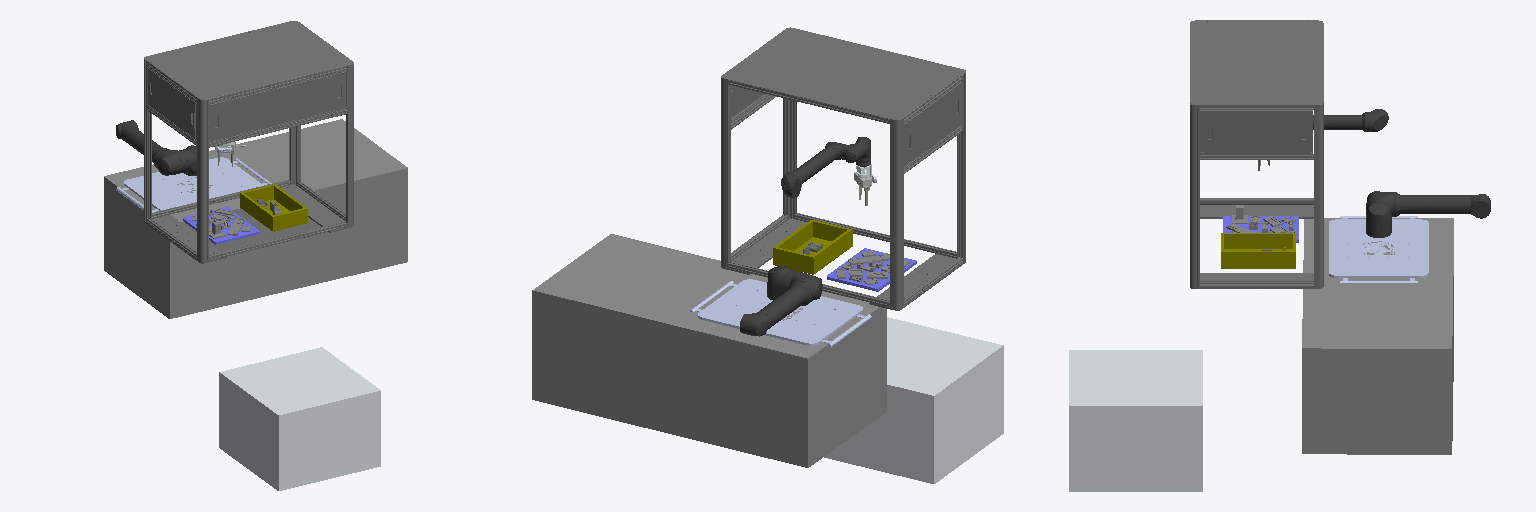
--- Render facts (derived) ---
Views: 3 orthographic renders of the robot side by side, from view 1: azimuth 30°, elevation 25°; view 2: azimuth 150°, elevation 25°; view 3: azimuth 270°, elevation 25°.
Robot: keti_robot_description — 22 links, 21 joints (6 revolute, 2 prismatic, 13 fixed); root link world; default pose: all joints at 0.
Links seen in each view (by area): view 1: base_link, cage, table, base, sample_box, link2, guide, guide_plate; view 2: base_link, cage, table, base, sample_box, link2, link3, guide, guide_plate, link1; view 3: base_link, cage, table, base, sample_box, link2, link3, guide, link1.
Link boxes in pixels (x1=…): base_link: x1=104, y1=119, x2=407, y2=318; cage: x1=144, y1=21, x2=353, y2=263; table: x1=219, y1=347, x2=380, y2=490; base: x1=116, y1=157, x2=271, y2=212; sample_box: x1=240, y1=184, x2=307, y2=231; link2: x1=116, y1=120, x2=188, y2=175; guide: x1=192, y1=208, x2=250, y2=238; guide_plate: x1=183, y1=207, x2=259, y2=244; base_link: x1=532, y1=234, x2=886, y2=467; cage: x1=721, y1=27, x2=965, y2=310; table: x1=824, y1=317, x2=1003, y2=483; base: x1=690, y1=279, x2=871, y2=348; sample_box: x1=773, y1=220, x2=852, y2=274; link2: x1=740, y1=271, x2=822, y2=336; link3: x1=781, y1=142, x2=845, y2=197; guide: x1=836, y1=251, x2=910, y2=284; guide_plate: x1=827, y1=248, x2=916, y2=291; link1: x1=767, y1=266, x2=794, y2=300; base_link: x1=1302, y1=218, x2=1453, y2=454; cage: x1=1190, y1=20, x2=1323, y2=288; table: x1=1069, y1=350, x2=1202, y2=491; base: x1=1329, y1=216, x2=1428, y2=282; sample_box: x1=1221, y1=233, x2=1295, y2=268; link2: x1=1366, y1=191, x2=1490, y2=218; link3: x1=1313, y1=109, x2=1388, y2=131; guide: x1=1226, y1=205, x2=1297, y2=234; link1: x1=1366, y1=200, x2=1391, y2=237.
Size in the robot's own frame: 2.01 by 2.53 by 2.66 metres.
Meshes: 19 distinct files referenced, 19 mesh visuals loaded (19 binary STL).

The robot description file, URDF, robot "keti_robot_description":
<?xml version="1.0" encoding="utf-8" ?>
<!-- This URDF was automatically created by SolidWorks to URDF Exporter! Originally created by
Stephen Brawner ([email redacted]) 
     Commit Version: 1.6.0-4-g7f85cfe  Build Version: 1.6.7995.38578
     For more information, please see http://wiki.ros.org/sw_urdf_exporter -->
<robot name="keti_robot_description">
    <link name="world" />
    <joint name="world_base" type="fixed">
        <origin xyz="0 0 0.803" rpy="0 0 0" />
        <parent link="world" />
        <child link="base_link" />
        <axis xyz="0 0 0" />
    </joint>
    <link name="base">
        <inertial>
            <origin xyz="-3.0420543732843E-06 -0.000310266853479853 0.472198524600166" rpy="0 0 0" />
            <mass value="856.710523085829" />
            <inertia ixx="56.4891846636914" ixy="3.15004799218073E-07" ixz="-4.10579819989819E-05" iyy="76.5651533017626" iyz="3.71330417890454E-05" izz="70.8459779417847" />
        </inertial>
        <visual>
            <origin xyz="0 0 0" rpy="0 0 0" />
            <geometry>
                <mesh filename="package://keti_robot_description/meshes/base_link.STL" />
            </geometry>
            <material name="">
                <color rgba="0.792156862745098 0.819607843137255 0.933333333333333 1" />
            </material>
        </visual>
        <collision>
            <origin xyz="0 0 0" rpy="0 0 0" />
            <geometry>
                <mesh filename="package://keti_robot_description/meshes/base_link.STL" />
            </geometry>
        </collision>
    </link>
    <link name="base_link">
        <inertial>
            <origin xyz="-3.33346887438442E-05 0.000285564928122946 0.0441636819540465" rpy="0 0 0" />
            <mass value="2.2652251953819" />
            <inertia ixx="0.00613758696409751" ixy="5.04787655447911E-06" ixz="-2.06360462586892E-06" iyy="0.00606962711919972" iyz="-2.85582975739181E-06" izz="0.00867794435574655" />
        </inertial>
        <visual>
            <origin xyz="0 0 0" rpy="0 0 0" />
            <geometry>
                <mesh filename="package://keti_robot_description/meshes/base.STL" />
            </geometry>
            <material name="">
                <color rgba="0.594117647058824 0.594117647058824 0.594117647058824 1" />
            </material>
        </visual>
        <collision>
            <origin xyz="0 0 0" rpy="0 0 0" />
            <geometry>
                <mesh filename="package://keti_robot_description/meshes/base.STL" />
            </geometry>
        </collision>
    </link>
    <joint name="base_fixed" type="fixed">
        <origin xyz="0 0 -0.803" rpy="0 0 0" />
        <parent link="base_link" />
        <child link="base" />
        <axis xyz="0 0 0" />
    </joint>
    <link name="link1">
        <inertial>
            <origin xyz="-0.000152782130418023 -0.0118929965334738 0.185272104905482" rpy="0 0 0" />
            <mass value="3.38760416330855" />
            <inertia ixx="0.00965857274328299" ixy="2.63774902696517E-06" ixz="-2.20411506005037E-06" iyy="0.0100366373115559" iyz="0.00227418354706203" izz="0.00982041012260562" />
        </inertial>
        <visual>
            <origin xyz="0 0 0" rpy="0 0 0" />
            <geometry>
                <mesh filename="package://keti_robot_description/meshes/link1.STL" />
            </geometry>
            <material name="">
                <color rgba="0.294117647058824 0.294117647058824 0.294117647058824 1" />
            </material>
        </visual>
        <collision>
            <origin xyz="0 0 0" rpy="0 0 0" />
            <geometry>
                <mesh filename="package://keti_robot_description/meshes/link1.STL" />
            </geometry>
        </collision>
    </link>
    <joint name="q1" type="revolute">
        <origin xyz="0 0 0" rpy="0 0 -1.5708" />
        <parent link="base_link" />
        <child link="link1" />
        <axis xyz="0 0 1" />
        <limit lower="-6.28" upper="6.28" effort="100" velocity="10" />
    </joint>
    <link name="link2">
        <inertial>
            <origin xyz="0.256519293636053 -5.02230044113333E-05 -0.182156904780236" rpy="0 0 0" />
            <mass value="10.3582396210808" />
            <inertia ixx="0.0227209214296945" ixy="-2.60074287292687E-06" ixz="0.00160304095858948" iyy="0.120603244564478" iyz="2.02017347940835E-06" izz="0.120795201071467" />
        </inertial>
        <visual>
            <origin xyz="0 0 0" rpy="0 0 0" />
            <geometry>
                <mesh filename="package://keti_robot_description/meshes/link2.STL" />
            </geometry>
            <material name="">
                <color rgba="0.294117647058824 0.294117647058824 0.294117647058824 1" />
            </material>
        </visual>
        <collision>
            <origin xyz="0 0 0" rpy="0 0 0" />
            <geometry>
                <mesh filename="package://keti_robot_description/meshes/link2.STL" />
            </geometry>
        </collision>
    </link>
    <joint name="q2" type="revolute">
        <origin xyz="0 0 0.197" rpy="1.5708 -1.5708 3.1416" />
        <parent link="link1" />
        <child link="link2" />
        <axis xyz="0 0 1" />
        <limit lower="-6.28" upper="6.28" effort="100" velocity="10" />
    </joint>
    <link name="link3">
        <inertial>
            <origin xyz="0.267192004078909 5.52341009596446E-08 0.143134757572694" rpy="0 0 0" />
            <mass value="5.05188870959058" />
            <inertia ixx="0.00628405006865319" ixy="-2.80291262476242E-10" ixz="-0.000370506230492888" iyy="0.0617515944810592" iyz="-5.4630264122874E-09" izz="0.0618261271509705" />
        </inertial>
        <visual>
            <origin xyz="0 0 0" rpy="0 0 0" />
            <geometry>
                <mesh filename="package://keti_robot_description/meshes/link3.STL" />
            </geometry>
            <material name="">
                <color rgba="0.294117647058824 0.294117647058824 0.294117647058824 1" />
            </material>
        </visual>
        <collision>
            <origin xyz="0 0 0" rpy="0 0 0" />
            <geometry>
                <mesh filename="package://keti_robot_description/meshes/link3.STL" />
            </geometry>
        </collision>
    </link>
    <joint name="q3" type="revolute">
        <origin xyz="0.6127 0 -0.1875" rpy="0 0 1.5708" />
        <parent link="link2" />
        <child link="link3" />
        <axis xyz="0 0 1" />
        <limit lower="-6.28" upper="6.28" effort="100" velocity="10" />
    </joint>
    <link name="link4">
        <inertial>
            <origin xyz="0.00636955026235164 4.99285552901796E-08 -0.111895613258826" rpy="0 0 0" />
            <mass value="0.80963566860197" />
            <inertia ixx="0.000814578063119343" ixy="-1.64833595815118E-08" ixz="0.000215197469116586" iyy="0.000838074727071174" iyz="-7.69664931217343E-09" izz="0.000873078218716129" />
        </inertial>
        <visual>
            <origin xyz="0 0 0" rpy="0 0 0" />
            <geometry>
                <mesh filename="package://keti_robot_description/meshes/link4.STL" />
            </geometry>
            <material name="">
                <color rgba="0.294117647058824 0.294117647058824 0.294117647058824 1" />
            </material>
        </visual>
        <collision>
            <origin xyz="0 0 0" rpy="0 0 0" />
            <geometry>
                <mesh filename="package://keti_robot_description/meshes/link4.STL" />
            </geometry>
        </collision>
    </link>
    <joint name="q4" type="revolute">
        <origin xyz="0.57015 0 0.1484" rpy="0 0 0" />
        <parent link="link3" />
        <child link="link4" />
        <axis xyz="0 0 1" />
        <limit lower="-6.28" upper="6.28" effort="100" velocity="10" />
    </joint>
    <link name="link5">
        <inertial>
            <origin xyz="-2.42105024084172E-06 -0.00725433397814212 0.111976976596473" rpy="0 0 0" />
            <mass value="0.822358205233283" />
            <inertia ixx="0.000866980211698627" ixy="-1.08075544041225E-08" ixz="-3.98724334907599E-09" iyy="0.000830295979143927" iyz="0.000222525041768018" izz="0.000899390558482124" />
        </inertial>
        <visual>
            <origin xyz="0 0 0" rpy="0 0 0" />
            <geometry>
                <mesh filename="package://keti_robot_description/meshes/link5.STL" />
            </geometry>
            <material name="">
                <color rgba="0.294117647058824 0.294117647058824 0.294117647058824 1" />
            </material>
        </visual>
        <collision>
            <origin xyz="0 0 0" rpy="0 0 0" />
            <geometry>
                <mesh filename="package://keti_robot_description/meshes/link5.STL" />
            </geometry>
        </collision>
    </link>
    <joint name="q5" type="revolute">
        <origin xyz="0 0 -0.11715" rpy="0 -1.5708 -3.1416" />
        <parent link="link4" />
        <child link="link5" />
        <axis xyz="0 0 1" />
        <limit lower="-6.28" upper="6.28" effort="100" velocity="10" />
    </joint>
    <link name="link6">
        <inertial>
            <origin xyz="-0.000244083935800887 -6.91008968434215E-07 -0.092173017250227" rpy="0 0 0" />
            <mass value="0.228532944621864" />
            <inertia ixx="0.000139960650226687" ixy="-2.60711970230224E-10" ixz="5.76979086366175E-07" iyy="0.000137593815442646" iyz="-1.40521694254523E-10" izz="0.000218309631187425" />
        </inertial>
        <visual>
            <origin xyz="0 0 0" rpy="0 0 0" />
            <geometry>
                <mesh filename="package://keti_robot_description/meshes/link6.STL" />
            </geometry>
            <material name="">
                <color rgba="0.294117647058824 0.294117647058824 0.294117647058824 1" />
            </material>
        </visual>
        <collision>
            <origin xyz="0 0 0" rpy="0 0 0" />
            <geometry>
                <mesh filename="package://keti_robot_description/meshes/link6.STL" />
            </geometry>
        </collision>
    </link>
    <joint name="q6" type="revolute">
        <origin xyz="0 0 0.11715" rpy="1.5708 -1.5708 -3.1416" />
        <parent link="link5" />
        <child link="link6" />
        <axis xyz="0 0 1" />
        <limit lower="-6.28" upper="6.28" effort="100" velocity="10" />
    </joint>
    <link name="gripper_cam_jig">
        <inertial>
            <origin xyz="-0.010218584080396 0.000257415782811576 -0.0363863576584786" rpy="0 0 0" />
            <mass value="0.363809799934884" />
            <inertia ixx="0.000158886140435799" ixy="-8.85041552125519E-07" ixz="-1.54307287779922E-06" iyy="0.000125067393480588" iyz="4.49899048463505E-08" izz="0.000214360238843583" />
        </inertial>
        <visual>
            <origin xyz="0 0 0" rpy="0 0 0" />
            <geometry>
                <mesh filename="package://keti_robot_description/meshes/gripper_cam_jig.STL" />
            </geometry>
            <material name="">
                <color rgba="0.898039215686275 0.917647058823529 0.929411764705882 1" />
            </material>
        </visual>
        <collision>
            <origin xyz="0 0 0" rpy="0 0 0" />
            <geometry>
                <mesh filename="package://keti_robot_description/meshes/gripper_cam_jig.STL" />
            </geometry>
        </collision>
    </link>
    <joint name="link6_jig" type="fixed">
        <origin xyz="0 0 -0.1183" rpy="0 0 2.4958" />
        <parent link="link6" />
        <child link="gripper_cam_jig" />
        <axis xyz="0 0 0" />
    </joint>
    <link name="cam">
        <inertial>
            <origin xyz="0.00221623043115715 -0.000129869319643316 0.0106603028259826" rpy="0 0 0" />
            <mass value="0.0326887265041798" />
            <inertia ixx="1.99509746764601E-06" ixy="-3.91609962559602E-09" ixz="4.07029726642134E-08" iyy="2.02605334751521E-05" iyz="-1.17619372131272E-08" izz="2.15265481774982E-05" />
        </inertial>
        <visual>
            <origin xyz="0 0 0" rpy="0 0 0" />
            <geometry>
                <mesh filename="package://keti_robot_description/meshes/cam.STL" />
            </geometry>
            <material name="">
                <color rgba="0.792156862745098 0.819607843137255 0.933333333333333 1" />
            </material>
        </visual>
        <collision>
            <origin xyz="0 0 0" rpy="0 0 0" />
            <geometry>
                <mesh filename="package://keti_robot_description/meshes/cam.STL" />
            </geometry>
        </collision>
    </link>
    <joint name="jig_cam" type="fixed">
        <origin xyz="-0.0583225279657438 0 -0.0820000000000001" rpy="3.14159265358979 0 1.5707963267949" />
        <parent link="gripper_cam_jig" />
        <child link="cam" />
        <axis xyz="0 0 0" />
    </joint>
    <link name="gripper">
        <inertial>
            <origin xyz="-0.000298406473471236 -0.00150550427302965 -0.0219098918209939" rpy="0 0 0" />
            <mass value="0.353450939027098" />
            <inertia ixx="0.000535578621167894" ixy="-7.44147202172271E-07" ixz="-7.1670590855247E-08" iyy="0.000164985101936106" iyz="4.50332236529226E-07" izz="0.000594983187518549" />
        </inertial>
        <visual>
            <origin xyz="0 0 0" rpy="0 0 0" />
            <geometry>
                <mesh filename="package://keti_robot_description/meshes/gripper.STL" />
            </geometry>
            <material name="">
                <color rgba="0.752941176470588 0.752941176470588 0.752941176470588 1" />
            </material>
        </visual>
        <collision>
            <origin xyz="0 0 0" rpy="0 0 0" />
            <geometry>
                <mesh filename="package://keti_robot_description/meshes/gripper.STL" />
            </geometry>
        </collision>
    </link>
    <joint name="jig_gripper" type="fixed">
        <origin xyz="0 0 -0.0658" rpy="0 0 0" />
        <parent link="gripper_cam_jig" />
        <child link="gripper" />
        <axis xyz="0 0 0" />
    </joint>
    <link name="tooltip1">
        <inertial>
            <origin xyz="-0.00674255822092196 -0.000133093696191855 -0.00876783058720992" rpy="0 0 0" />
            <mass value="0.0737973344451048" />
            <inertia ixx="6.48942548977301E-06" ixy="3.76635397579075E-08" ixz="1.31847470029505E-06" iyy="2.76299349617891E-05" iyz="-9.29189992090126E-08" izz="2.88157641063004E-05" />
        </inertial>
        <visual>
            <origin xyz="0 0 0" rpy="0 0 0" />
            <geometry>
                <mesh filename="package://keti_robot_description/meshes/tooltip1.STL" />
            </geometry>
            <material name="">
                <color rgba="0.650980392156863 0.619607843137255 0.588235294117647 1" />
            </material>
        </visual>
        <collision>
            <origin xyz="0 0 0" rpy="0 0 0" />
            <geometry>
                <mesh filename="package://keti_robot_description/meshes/tooltip1.STL" />
            </geometry>
        </collision>
    </link>
    <joint name="s1" type="prismatic">
        <origin xyz="0 0.041 -0.0608" rpy="1.5708 -1.5708 0" />
        <parent link="gripper" />
        <child link="tooltip1" />
        <axis xyz="0 0 1" />
        <limit lower="0" upper="0.04" effort="100" velocity="10" />
    </joint>
    <link name="tooltip2">
        <inertial>
            <origin xyz="-0.00674255822092173 -0.000133093696191633 -0.00876783058720987" rpy="0 0 0" />
            <mass value="0.0737973344451051" />
            <inertia ixx="6.48942548977302E-06" ixy="3.76635397578962E-08" ixz="1.31847470029503E-06" iyy="2.76299349617893E-05" iyz="-9.29189992090066E-08" izz="2.88157641063006E-05" />
        </inertial>
        <visual>
            <origin xyz="0 0 0" rpy="0 0 0" />
            <geometry>
                <mesh filename="package://keti_robot_description/meshes/tooltip2.STL" />
            </geometry>
            <material name="">
                <color rgba="0.650980392156863 0.619607843137255 0.588235294117647 1" />
            </material>
        </visual>
        <collision>
            <origin xyz="0 0 0" rpy="0 0 0" />
            <geometry>
                <mesh filename="package://keti_robot_description/meshes/tooltip2.STL" />
            </geometry>
        </collision>
    </link>
    <joint name="s2" type="prismatic">
        <origin xyz="0 -0.041 -0.0608" rpy="-1.5708 -1.5708 0" />
        <parent link="gripper" />
        <child link="tooltip2" />
        <axis xyz="0 0 1" />
        <limit lower="0" upper="0.04" effort="100" velocity="10" />
    </joint>
    <link name="end" />
    <joint name="link6_end" type="fixed">
        <origin xyz="0 0 -0.1153" rpy="1.5708 0 1.5708" />
        <parent link="link6" />
        <child link="end" />
        <axis xyz="0 0 0" />
    </joint>
    <link name="table">
        <inertial>
            <origin xyz="0.0032093 -0.0086466 0.55421" rpy="0 0 0" />
            <mass value="54.316" />
            <inertia ixx="1.8674" ixy="1.7462E-05" ixz="0.0040242" iyy="1.9466" iyz="0.0058242" izz="3.4226" />
        </inertial>
        <visual>
            <origin xyz="0 0 0" rpy="0 0 0" />
            <geometry>
                <mesh filename="package://keti_robot_description/meshes/table.STL" />
            </geometry>
            <material name="">
                <color rgba="0.89804 0.91765 0.92941 1" />
            </material>
        </visual>
        <collision>
            <origin xyz="0 0 0" rpy="0 0 0" />
            <geometry>
                <mesh filename="package://keti_robot_description/meshes/table.STL" />
            </geometry>
        </collision>
    </link>
    <joint name="base_table" type="fixed">
        <origin xyz="-0.018106 -0.73131 0.017" rpy="0 0 -2.1411E-05" />
        <parent link="base" />
        <child link="table" />
        <axis xyz="0 0 0" />
    </joint>
    <link name="cage">
        <inertial>
            <origin xyz="0.018106 -0.019568 0.71077" rpy="0 0 0" />
            <mass value="48.96" />
            <inertia ixx="2.056" ixy="-1.0608E-05" ixz="1.2319E-11" iyy="2.5515" iyz="2.4847E-17" izz="2.2932" />
        </inertial>
        <visual>
            <origin xyz="0 0 0" rpy="0 0 0" />
            <geometry>
                <mesh filename="package://keti_robot_description/meshes/cage.STL" />
            </geometry>
            <material name="">
                <color rgba="0.50196 0.50196 0.50196 1" />
            </material>
        </visual>
        <collision>
            <origin xyz="0 0 0" rpy="0 0 0" />
            <geometry>
                <mesh filename="package://keti_robot_description/meshes/cage.STL" />
            </geometry>
        </collision>
    </link>
    <joint name="table_cage" type="fixed">
        <origin xyz="0 0 0.803" rpy="0 0 0" />
        <parent link="table" />
        <child link="cage" />
        <axis xyz="0 0 0" />
    </joint>
    <link name="sample_box">
        <inertial>
            <origin xyz="0.0 0.0 0.04294" rpy="0 0 0" />
            <mass value="3.96050" />
            <inertia ixx="0.10637" ixy="0.0" ixz="0.0" iyy="0.05286" iyz="0.0" izz="0.13493" />
        </inertial>
        <visual>
            <origin xyz="0 0 0" rpy="0 0 0" />
            <geometry>
                <mesh filename="package://keti_robot_description/meshes/sample_box.STL" />
            </geometry>
            <material name="">
                <color rgba="0.580392156 0.580392156 0.0 1" />
            </material>
        </visual>
        <collision>
            <origin xyz="0 0 0" rpy="0 0 0" />
            <geometry>
                <mesh filename="package://keti_robot_description/meshes/sample_box.STL" />
            </geometry>
        </collision>
    </link>
    <joint name="cage_box" type="fixed">
        <origin xyz="0.21961 0.01 0" rpy="0 0 0" />
        <parent link="cage" />
        <child link="sample_box" />
        <axis xyz="0 0 0" />
    </joint>
    <link name="sample">
        <inertial>
            <origin xyz="-0.02906 0.01418 0.00939" rpy="0 0 0" />
            <mass value="0.21697" />
            <inertia ixx="0.00173" ixy="-0.00010" ixz="0.00007" iyy="0.00210" iyz="0.00002" izz="0.00053" />
        </inertial>
        <visual>
            <origin xyz="0 0 0" rpy="0 0 0" />
            <geometry>
                <mesh filename="package://keti_robot_description/meshes/sample.STL" />
            </geometry>
            <material name="">
                <color rgba="0.509803 0.509803 0.509803 1" />
            </material>
        </visual>
        <collision>
            <origin xyz="0 0 0" rpy="0 0 0" />
            <geometry>
                <mesh filename="package://keti_robot_description/meshes/sample.STL" />
            </geometry>
        </collision>
    </link>
    <joint name="box_sample" type="fixed">
        <origin xyz="0.03961 0.04829 0.010" rpy="1.5708 0 0" />
        <parent link="sample_box" />
        <child link="sample" />
        <axis xyz="0 0 0" />
    </joint>
    <link name="guide_plate">
        <inertial>
            <origin xyz="0.0 0.009 0.0" rpy="0 0 0" />
            <mass value="2.83099" />
            <inertia ixx="0.04799" ixy="0.0" ixz="0.0" iyy="0.07653" iyz="0.0" izz="0.02914" />
        </inertial>
        <visual>
            <origin xyz="0 0 0" rpy="0 0 0" />
            <geometry>
                <mesh filename="package://keti_robot_description/meshes/guide_plate.STL" />
            </geometry>
            <material name="">
                <color rgba="0.4980392 0.4980392 1.0 1" />
            </material>
        </visual>
        <collision>
            <origin xyz="0 0 0" rpy="0 0 0" />
            <geometry>
                <mesh filename="package://keti_robot_description/meshes/guide_plate.STL" />
            </geometry>
        </collision>
    </link>
    <joint name="cage_plate" type="fixed">
        <origin xyz="-0.18189 0.025 0" rpy="1.5708 0 0" />
        <parent link="cage" />
        <child link="guide_plate" />
        <axis xyz="0 0 0" />
    </joint>
    <link name="guide">
        <inertial>
            <origin xyz="-0.03871 0.01388 0.05706" rpy="0 0 0" />
            <mass value="0.78172" />
            <inertia ixx="0.01274" ixy="-0.00101" ixz="-0.00389" iyy="0.01991" iyz="0.00123" izz="0.00813" />
        </inertial>
        <visual>
            <origin xyz="0 0 0" rpy="0 0 0" />
            <geometry>
                <mesh filename="package://keti_robot_description/meshes/guide.STL" />
            </geometry>
            <material name="">
                <color rgba="0.580392156 0.580392156 0.580392156 1" />
            </material>
        </visual>
        <collision>
            <origin xyz="0 0 0" rpy="0 0 0" />
            <geometry>
                <mesh filename="package://keti_robot_description/meshes/guide.STL" />
            </geometry>
        </collision>
    </link>
    <joint name="plate_guide" type="fixed">
        <origin xyz="0.01888 0.018 -0.02292" rpy="0 0 0" />
        <parent link="guide_plate" />
        <child link="guide" />
        <axis xyz="0 0 0" />
    </joint>
    <transmission name="trans_q1">
        <type>transmission_interface/SimpleTransmission</type>
        <joint name="q1">
            <hardwareInterface>hardware_interface/PositionJointInterface</hardwareInterface>
        </joint>
        <actuator name="q1_motor">
            <hardwareInterface>hardware_interface/PositionJointInterface</hardwareInterface>
            <mechanicalReduction>1</mechanicalReduction>
        </actuator>
    </transmission>
    <transmission name="trans_q2">
        <type>transmission_interface/SimpleTransmission</type>
        <joint name="q2">
            <hardwareInterface>hardware_interface/PositionJointInterface</hardwareInterface>
        </joint>
        <actuator name="q2_motor">
            <hardwareInterface>hardware_interface/PositionJointInterface</hardwareInterface>
            <mechanicalReduction>1</mechanicalReduction>
        </actuator>
    </transmission>
    <transmission name="trans_q3">
        <type>transmission_interface/SimpleTransmission</type>
        <joint name="q3">
            <hardwareInterface>hardware_interface/PositionJointInterface</hardwareInterface>
        </joint>
        <actuator name="q3_motor">
            <hardwareInterface>hardware_interface/PositionJointInterface</hardwareInterface>
            <mechanicalReduction>1</mechanicalReduction>
        </actuator>
    </transmission>
    <transmission name="trans_q4">
        <type>transmission_interface/SimpleTransmission</type>
        <joint name="q4">
            <hardwareInterface>hardware_interface/PositionJointInterface</hardwareInterface>
        </joint>
        <actuator name="q4_motor">
            <hardwareInterface>hardware_interface/PositionJointInterface</hardwareInterface>
            <mechanicalReduction>1</mechanicalReduction>
        </actuator>
    </transmission>
    <transmission name="trans_q5">
        <type>transmission_interface/SimpleTransmission</type>
        <joint name="q5">
            <hardwareInterface>hardware_interface/PositionJointInterface</hardwareInterface>
        </joint>
        <actuator name="q5_motor">
            <hardwareInterface>hardware_interface/PositionJointInterface</hardwareInterface>
            <mechanicalReduction>1</mechanicalReduction>
        </actuator>
    </transmission>
    <transmission name="trans_q6">
        <type>transmission_interface/SimpleTransmission</type>
        <joint name="q6">
            <hardwareInterface>hardware_interface/PositionJointInterface</hardwareInterface>
        </joint>
        <actuator name="q6_motor">
            <hardwareInterface>hardware_interface/PositionJointInterface</hardwareInterface>
            <mechanicalReduction>1</mechanicalReduction>
        </actuator>
    </transmission>
    <transmission name="trans_s1">
        <type>transmission_interface/SimpleTransmission</type>
        <joint name="s1">
            <hardwareInterface>hardware_interface/PositionJointInterface</hardwareInterface>
        </joint>
        <actuator name="s1_motor">
            <hardwareInterface>hardware_interface/PositionJointInterface</hardwareInterface>
            <mechanicalReduction>1</mechanicalReduction>
        </actuator>
    </transmission>
    <transmission name="trans_s2">
        <type>transmission_interface/SimpleTransmission</type>
        <joint name="s2">
            <hardwareInterface>hardware_interface/PositionJointInterface</hardwareInterface>
        </joint>
        <actuator name="s2_motor">
            <hardwareInterface>hardware_interface/PositionJointInterface</hardwareInterface>
            <mechanicalReduction>1</mechanicalReduction>
        </actuator>
    </transmission>
    <gazebo>
        <plugin name="gazebo_ros_control" filename="libgazebo_ros_control.so">
            <robotNamespace>/</robotNamespace>
        </plugin>
    </gazebo>
    <link name="cam_optical" />
    <joint name="cam_joint" type="fixed">
        <origin xyz="0 0 0.02495" rpy="-1.5708 -1.5708 0" />
        <parent link="cam" />
        <child link="cam_optical" />
        <axis xyz="0 0 0" />
    </joint>
    <gazebo reference="cam_optical">
        <sensor type="camera" name="Realsense">
            <always_on>true</always_on>
            <visualize>true</visualize>
            <camera>
                <horizontal_fov>1.085595</horizontal_fov>
                <image>
                    <width>640</width>
                    <height>480</height>
                    <format>R8G8B8</format>
                </image>
                <clip>
                    <near>0.01</near>
                    <far>100</far>
                </clip>
            </camera>
            <plugin name="camera_controller" filename="libgazebo_ros_camera.so">
                <alwaysOn>true</alwaysOn>
                <updateRate>30.0</updateRate>
                <cameraName>camera</cameraName>
                <frameName>cam_optical</frameName>
                <imageTopicName>rgb/image_raw</imageTopicName>
                <cameraInfoTopicName>rgb/camera_info</cameraInfoTopicName>
                <hackBaselink>0.07</hackBaselink>
                <distortionK1>0.0</distortionK1>
                <distortionK2>0.0</distortionK2>
                <distortionK3>0.0</distortionK3>
                <distortionT1>0.0</distortionT1>
                <distortionT2>0.0</distortionT2>
            </plugin>
        </sensor>
    </gazebo>
    <gazebo reference="cage">
        <material>Gazebo/GreyTransparent</material>
    </gazebo>
    <gazebo reference="guide">
        <material>Gazebo/Gray</material>
    </gazebo>
    <gazebo reference="guide_plate">
        <material>Gazebo/BlueTransparent</material>
    </gazebo>
    <gazebo reference="sample_box">
        <material>Gazebo/DarkYellow</material>
    </gazebo>
    <gazebo reference="sample">
        <material>Gazebo/Gray</material>
    </gazebo>
</robot>
